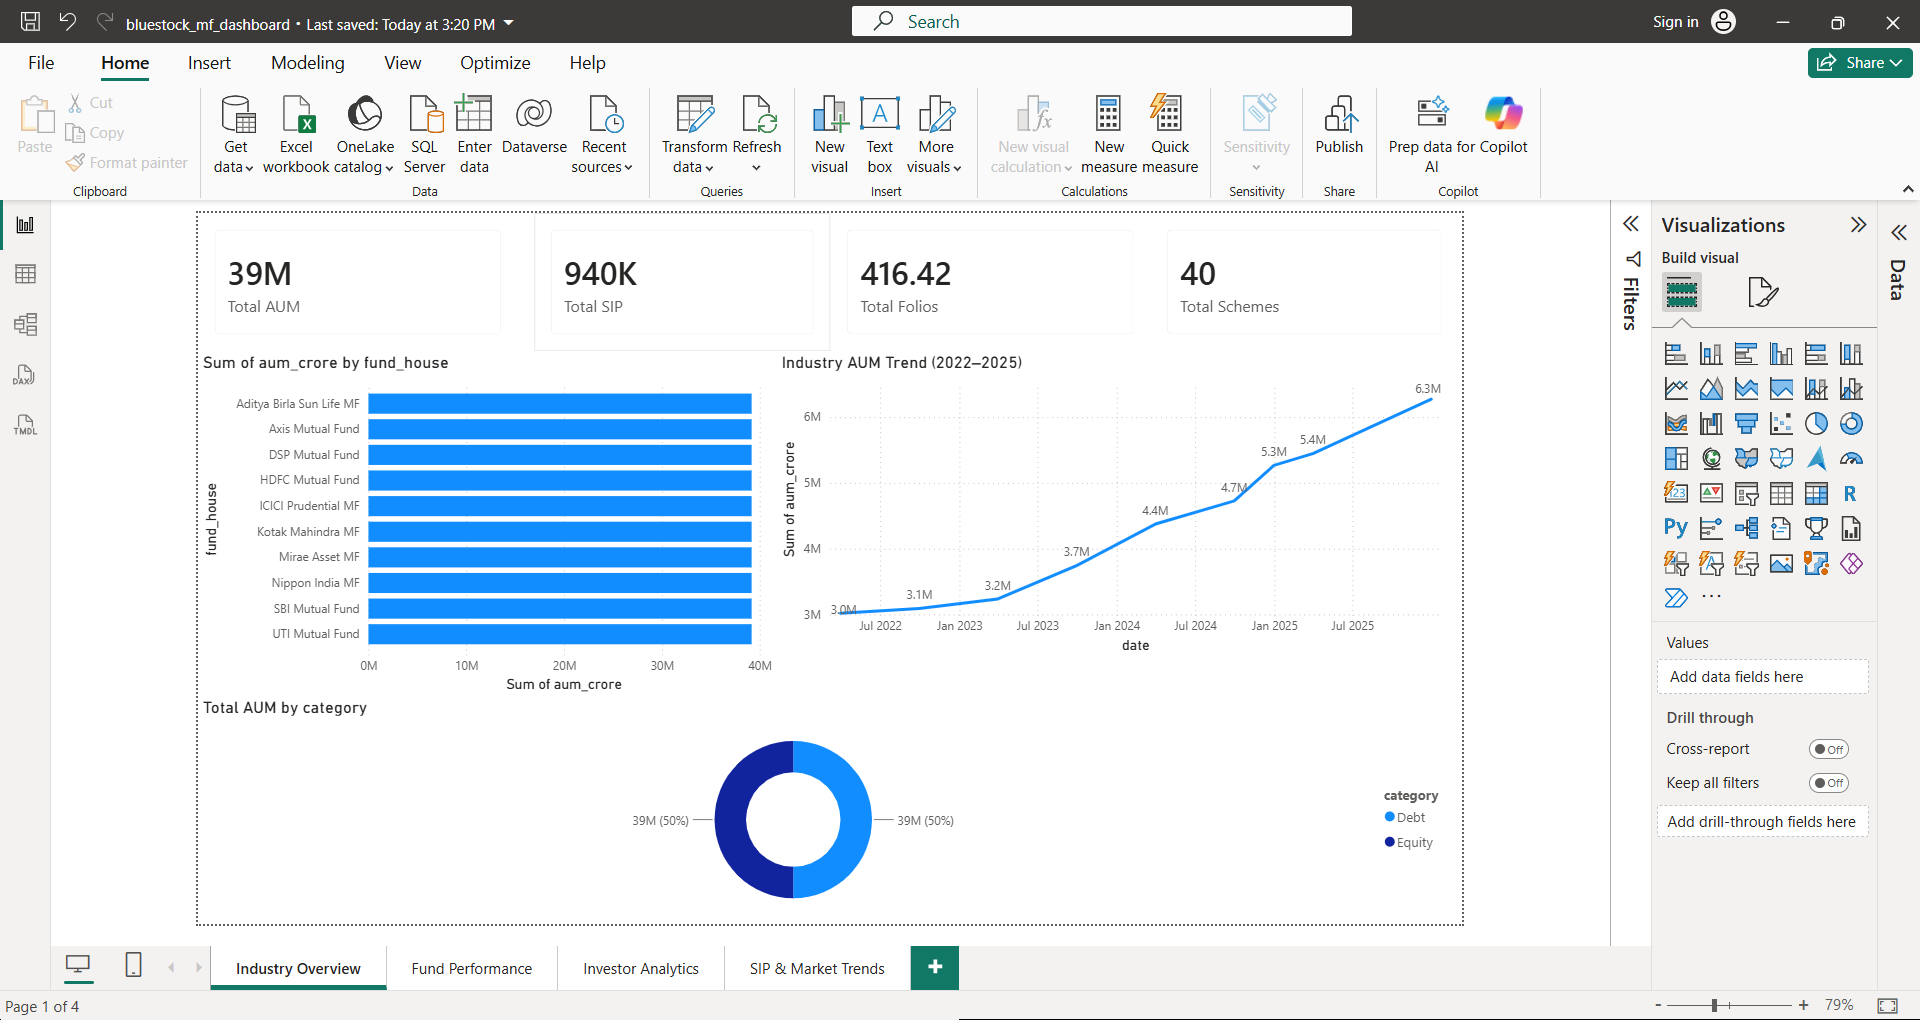

Layout of this report page (visuals, bound fields, positions):
{"tool":"powerbi","page":{"name":"Industry Overview","canvas":[1280,720],"ordinal":0},"visuals":[{"type":"cardVisual","fields":{"Data":["01_fund_master.Total AUM"]},"box":[0,0,324,140],"z":1},{"type":"cardVisual","fields":{"Data":["01_fund_master.Total Folios"]},"box":[640,0,324,140],"z":8},{"type":"cardVisual","fields":{"Data":["01_fund_master.Total SIP"]},"box":[340,0,300,140],"z":9},{"type":"cardVisual","fields":{"Data":["01_fund_master.Total Schemes"]},"box":[964,0,312,140],"z":10},{"type":"lineChart","title":"Industry AUM Trend (2022–2025)","fields":{"Y":["Sum(03_aum_by_fund_house.aum_crore)"],"Category":["03_aum_by_fund_house.date"]},"box":[586,140,690,310],"z":12},{"type":"clusteredBarChart","fields":{"Category":["01_fund_master.fund_house"],"Y":["Sum(03_aum_by_fund_house.aum_crore)"]},"box":[0,140,586,350],"z":13},{"type":"donutChart","fields":{"Category":["01_fund_master.category"],"Y":["01_fund_master.Total AUM"]},"box":[0,490,1280,230],"z":14}]}

Visuals, with their boxes on the page's 1280x720 design canvas (x1, y1, x2, y2). These are canvas units, not pixel positions in the 1920x1020 screenshot, which may show the page scaled, cropped or inside an application window:
cardVisual - 01_fund_master.Total AUM: detection(0, 0, 324, 140)
cardVisual - 01_fund_master.Total Folios: detection(640, 0, 964, 140)
cardVisual - 01_fund_master.Total SIP: detection(340, 0, 640, 140)
cardVisual - 01_fund_master.Total Schemes: detection(964, 0, 1276, 140)
"Industry AUM Trend (2022–2025)" lineChart: detection(586, 140, 1276, 450)
clusteredBarChart - 01_fund_master.fund_house x Sum(03_aum_by_fund_house.aum_crore): detection(0, 140, 586, 490)
donutChart - 01_fund_master.category x 01_fund_master.Total AUM: detection(0, 490, 1280, 720)
